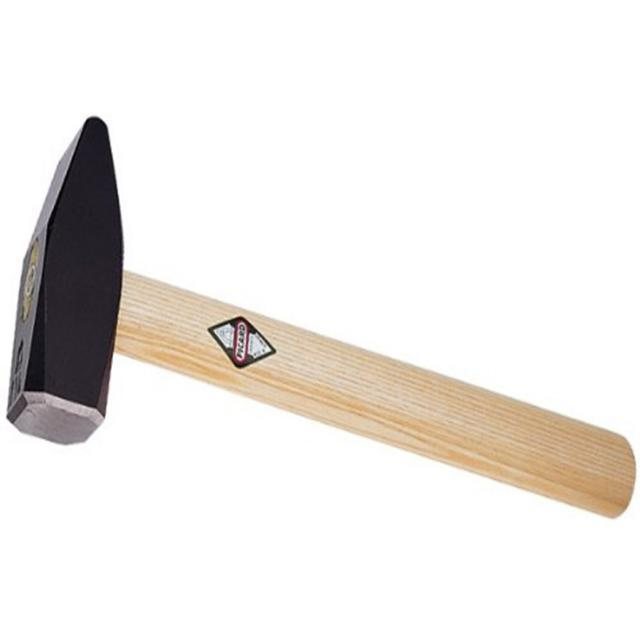hammer: (0, 111, 640, 538)
